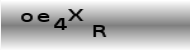4: (52, 16, 67, 31)
R: (91, 24, 106, 38)
X: (67, 8, 83, 23)
e: (36, 12, 53, 24)
o: (19, 11, 32, 23)
